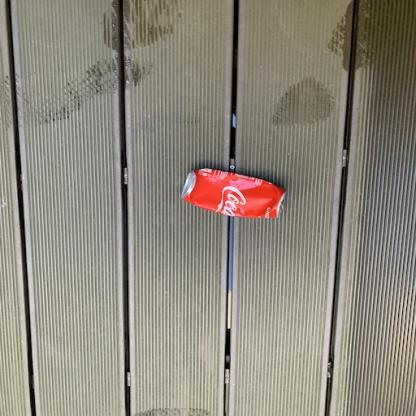trash: (172, 164, 298, 220)
